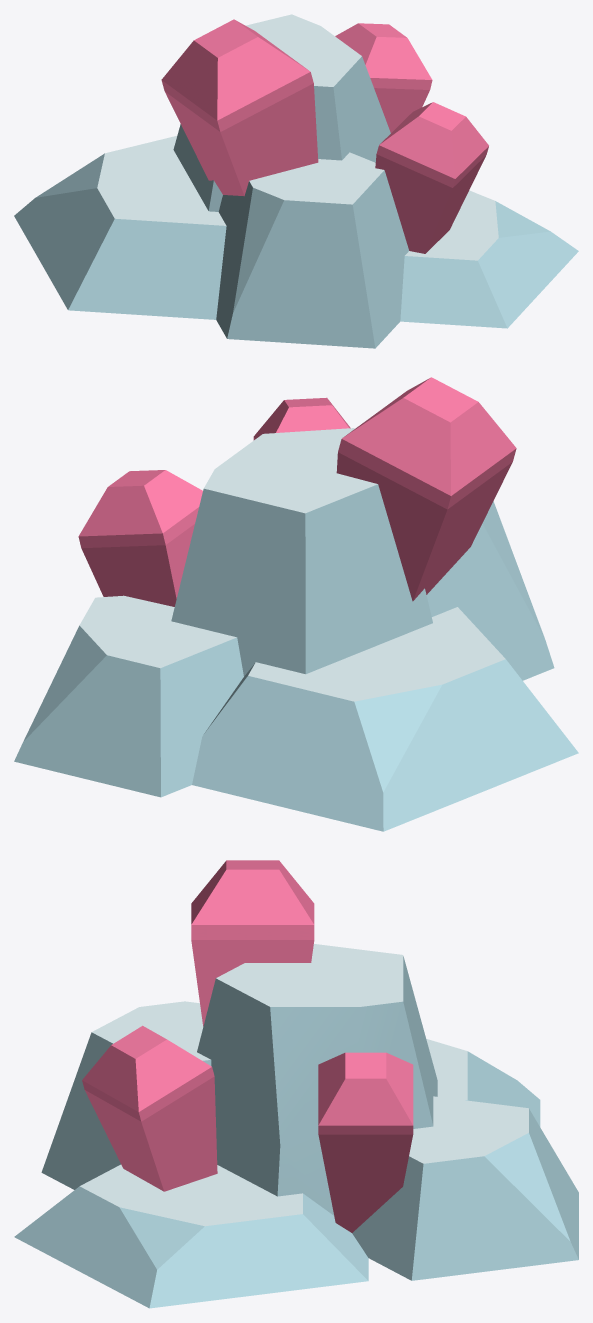
Rendered from snow_detail_crystalLarge.dae.
3 renders of one model, top to bottom at view 1: azimuth 30°, elevation 25°; view 2: azimuth 150°, elevation 25°; view 3: azimuth 270°, elevation 25°, orthographic. The views are drawn at different scales.
Parts seen in each view (by area): view 1: rocks, crystal (×3); view 2: rocks, crystal (×3); view 3: rocks, crystal (×3).
Boxes of the visible parts, <box> form: rocks: <box>14,14,578,348</box>; crystal (×3): <box>161,19,488,253</box>; rocks: <box>14,428,578,831</box>; crystal (×3): <box>78,377,516,606</box>; rocks: <box>14,944,578,1308</box>; crystal (×3): <box>82,860,413,1232</box>.
Bounding box in the file's own units: 1 × 0.5565 × 1.
